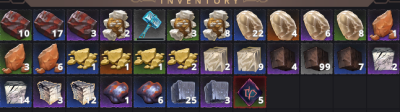cinnabar mineral: (67, 8, 99, 41), (33, 9, 64, 40), (1, 9, 31, 40)
dolomite mineral: (167, 9, 198, 40), (200, 9, 231, 40), (100, 8, 130, 40)
granite stone: (168, 77, 198, 106), (202, 77, 231, 106)
halite mineral: (267, 8, 298, 41), (234, 9, 265, 40), (301, 9, 331, 40), (334, 9, 364, 39)
iron ore: (134, 77, 165, 107), (102, 77, 130, 106)
limestone stone: (34, 77, 64, 106), (68, 77, 98, 106)
marble stone: (369, 43, 398, 73), (2, 77, 30, 106)
nitre mineral: (1, 43, 31, 73), (33, 43, 63, 73), (368, 9, 397, 40)
slate stone: (302, 43, 333, 73), (268, 43, 298, 73), (336, 43, 365, 72)
sulphur mineral: (67, 44, 97, 73), (168, 44, 198, 72), (102, 44, 130, 73), (135, 45, 164, 72)
travertine stone: (200, 44, 231, 73), (235, 44, 264, 73)
